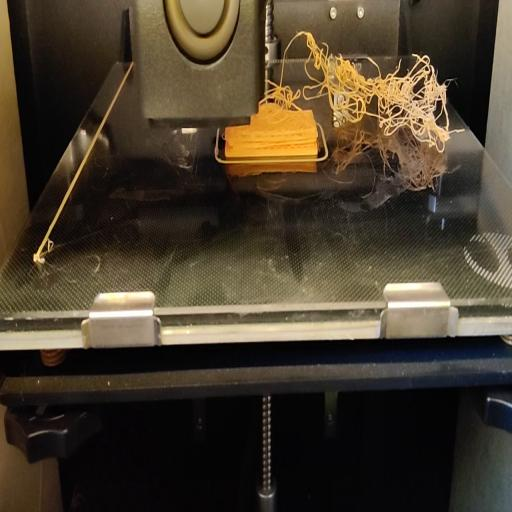spaghetti: (266, 34, 466, 152)
